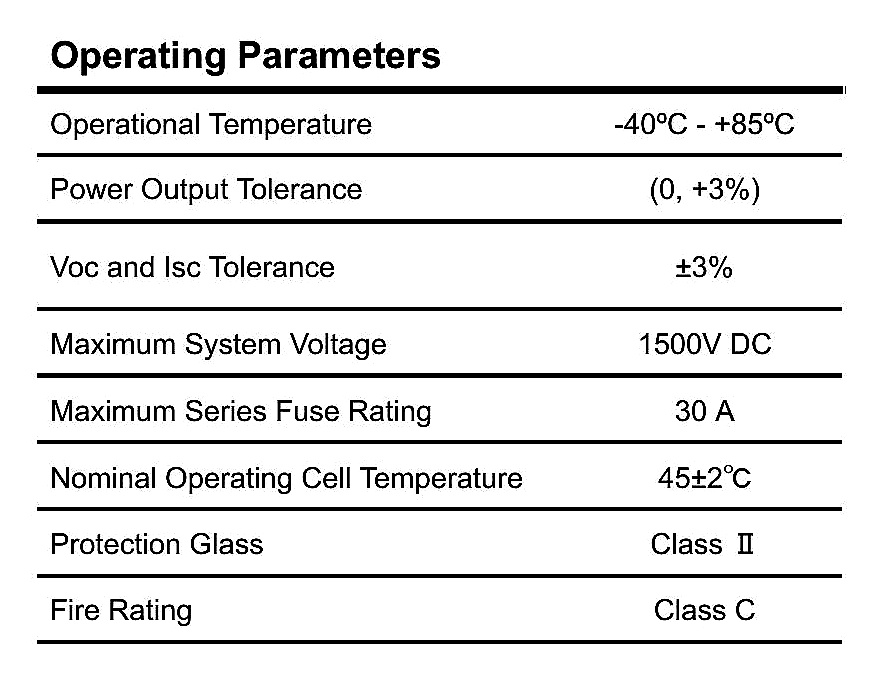table: (11, 33, 851, 652)
table column: (29, 36, 589, 643), (590, 35, 846, 644)
table name: (24, 37, 843, 84)
table row: (23, 226, 846, 305), (26, 379, 846, 442), (25, 445, 847, 506), (25, 312, 847, 372), (27, 512, 845, 572), (29, 578, 847, 638), (22, 158, 846, 215), (23, 96, 845, 152), (23, 35, 844, 84)
table row header: (26, 34, 589, 643)
table spanning cell: (28, 38, 846, 83)
